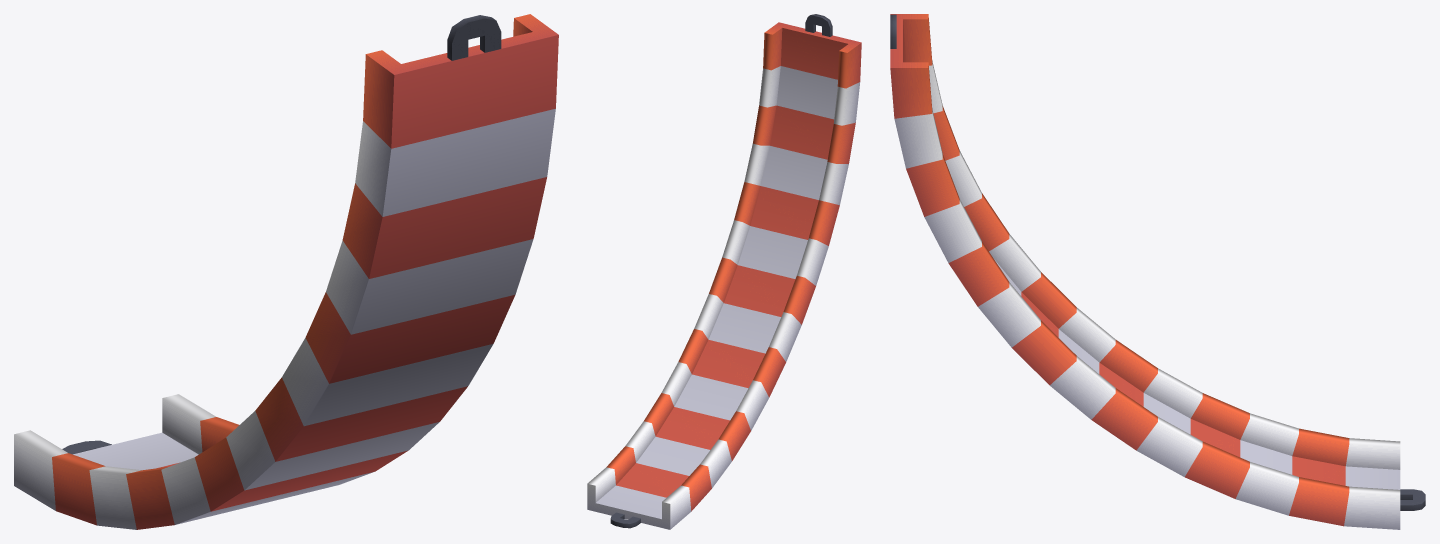
Rendered from track_striped_narrow_straight_bend_large.glb.
3 renders of one model, left to right at view 1: azimuth 30°, elevation 25°; view 2: azimuth 150°, elevation 25°; view 3: azimuth 270°, elevation 25°, orthographic. The views are drawn at different scales.
Visible parts, largest first — view 1: track-striped-narrow-straight-bend-large; view 2: track-striped-narrow-straight-bend-large; view 3: track-striped-narrow-straight-bend-large.
Part boxes in pixels (box(x1,y1,x2,y2)): track-striped-narrow-straight-bend-large: box(14, 14, 558, 529); track-striped-narrow-straight-bend-large: box(587, 14, 861, 529); track-striped-narrow-straight-bend-large: box(890, 14, 1425, 529).
Size of the model in its own units: 1 by 4.2 by 4.2.
1 material, 1 textured.
